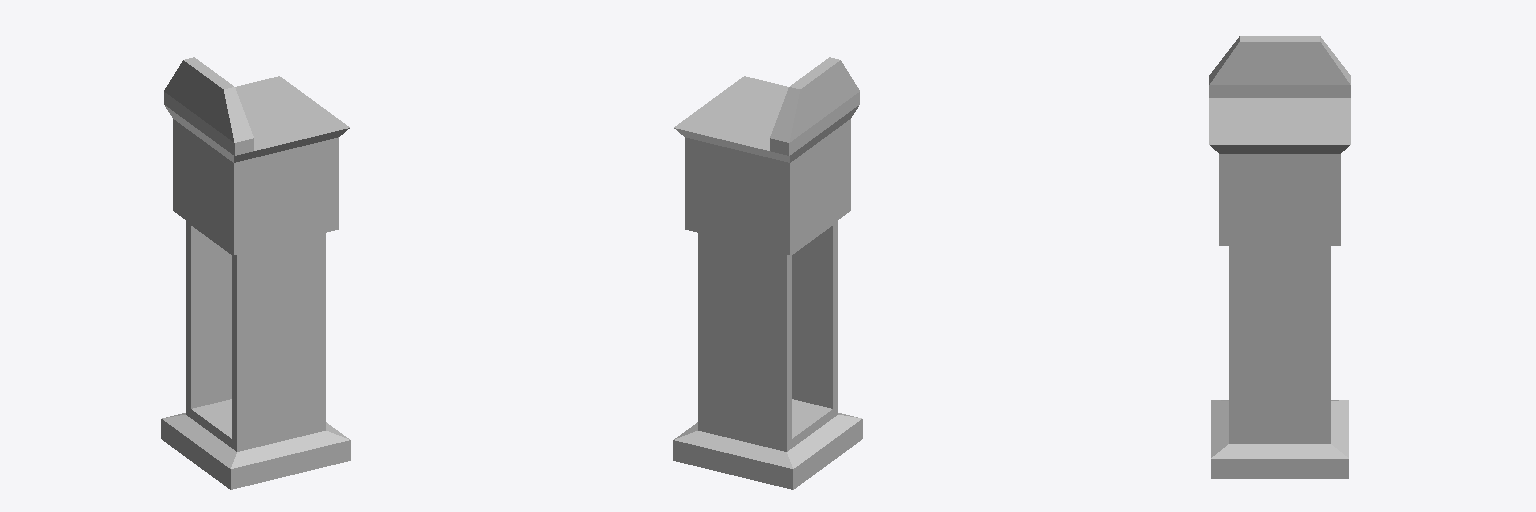
Rendered from clock.obj.
3 views of the same model, side by side, from view 1: azimuth 30°, elevation 25°; view 2: azimuth 150°, elevation 25°; view 3: azimuth 270°, elevation 25° (orthographic).
Visible parts, largest first — view 1: reloj_Cube.001; view 2: reloj_Cube.001; view 3: reloj_Cube.001.
Boxes of the visible parts, <box> form: reloj_Cube.001: <box>161,57,350,489</box>; reloj_Cube.001: <box>673,57,862,489</box>; reloj_Cube.001: <box>1209,36,1350,478</box>.
Size of the model in its own units: 2 by 6.18 by 2.04.